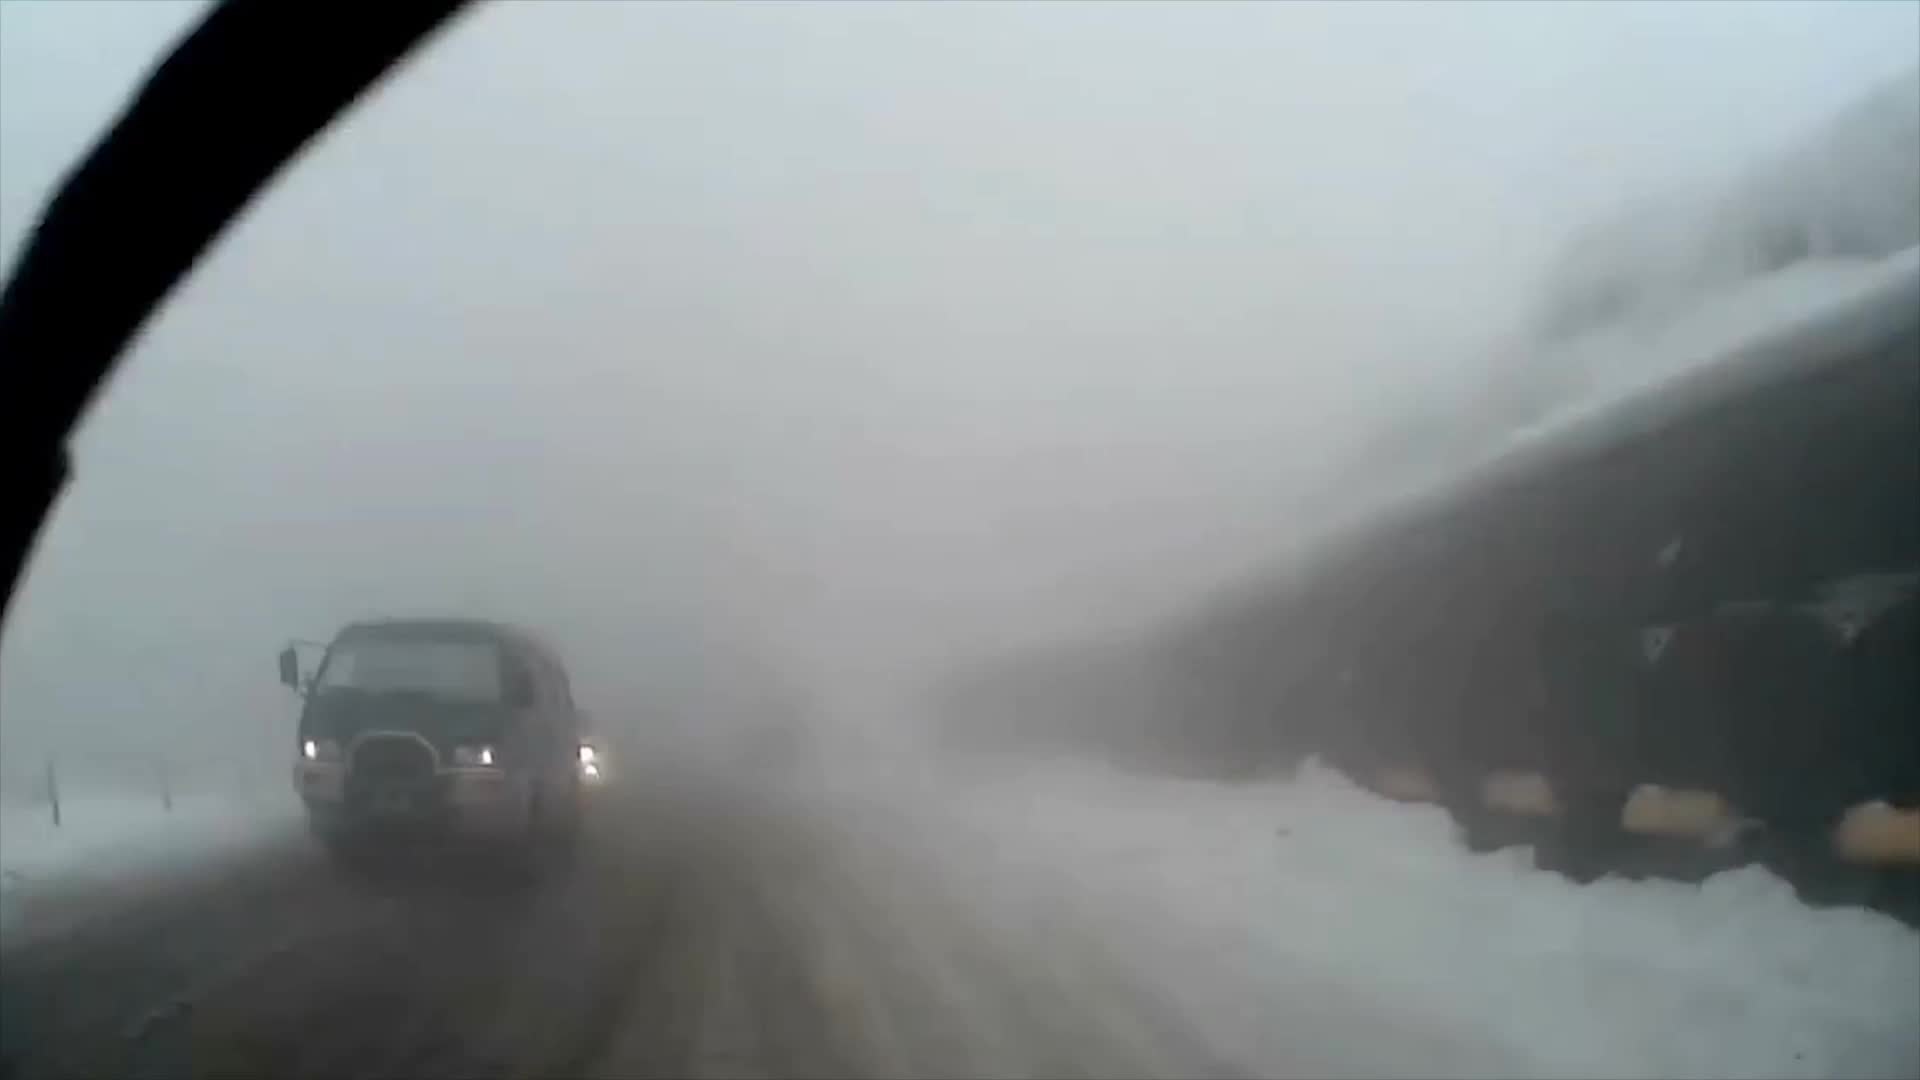vehicle: (274, 613, 585, 894)
